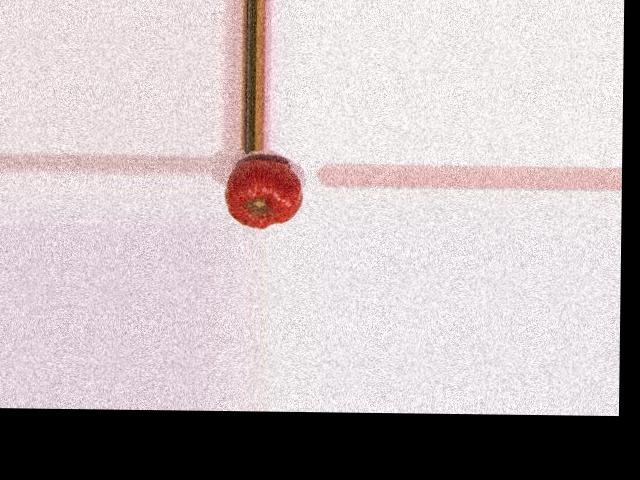tomato: (225, 159, 302, 228)
